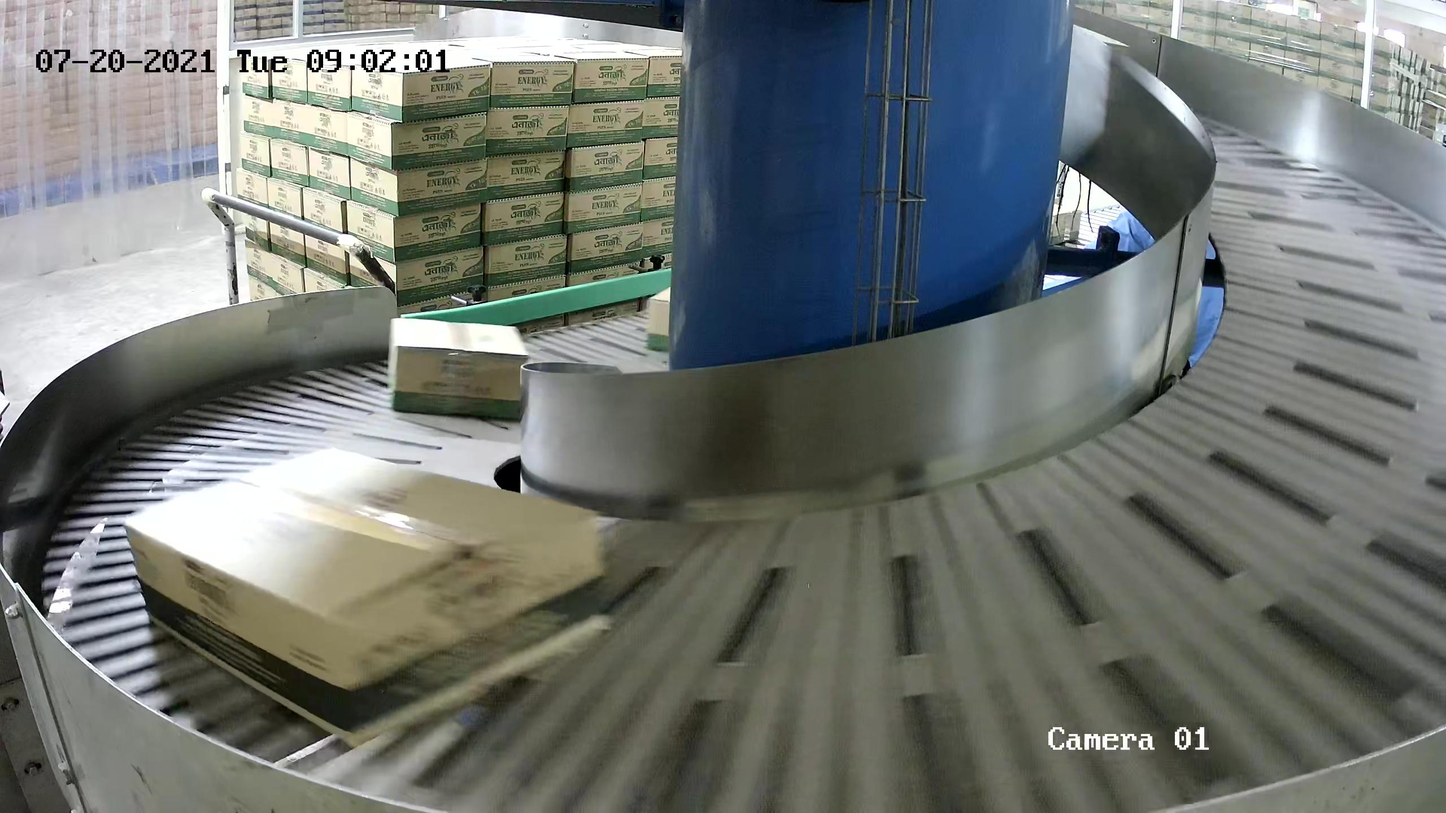Box: (121, 446, 617, 752), (387, 317, 531, 424)
